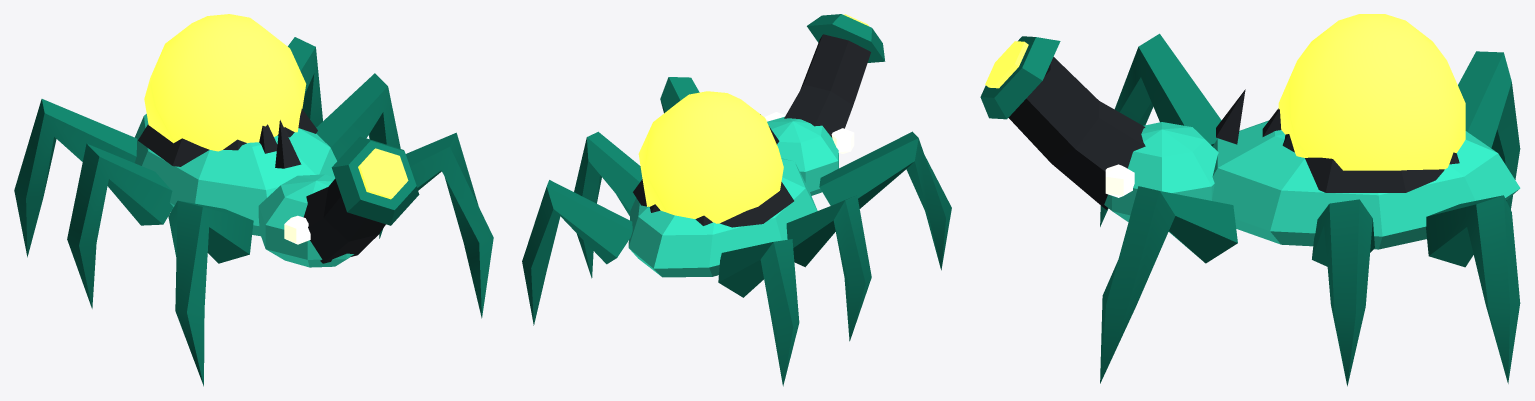
File: spitter.glb
3 renders of one model, left to right at view 1: azimuth 30°, elevation 25°; view 2: azimuth 150°, elevation 25°; view 3: azimuth 270°, elevation 25°, orthographic. The views are drawn at different scales.
Parts seen in each view (by area): view 1: body, pulse_sac, leg_R1, leg_R2, leg_R3, leg_L1, leg_L2, leg_L3; view 2: body, pulse_sac, leg_R1, leg_L3, leg_R3, leg_R2, leg_L2, leg_L1; view 3: body, pulse_sac, leg_L1, leg_L3, leg_L2, leg_R1, leg_R3.
Boxes of the visible parts, x1=… form: body: x1=134, y1=109, x2=419, y2=267; pulse_sac: x1=144, y1=14, x2=306, y2=151; leg_R1: x1=168, y1=200, x2=253, y2=386; leg_R2: x1=67, y1=143, x2=173, y2=308; leg_R3: x1=14, y1=99, x2=137, y2=257; leg_L1: x1=406, y1=132, x2=493, y2=318; leg_L2: x1=316, y1=73, x2=400, y2=238; leg_L3: x1=288, y1=37, x2=322, y2=127; body: x1=628, y1=14, x2=885, y2=277; pulse_sac: x1=638, y1=91, x2=783, y2=223; leg_R1: x1=819, y1=131, x2=951, y2=270; leg_L3: x1=522, y1=180, x2=632, y2=325; leg_R3: x1=718, y1=239, x2=799, y2=386; leg_R2: x1=786, y1=195, x2=871, y2=341; leg_L2: x1=574, y1=131, x2=642, y2=278; leg_L1: x1=660, y1=77, x2=699, y2=113; body: x1=980, y1=36, x2=1520, y2=249; pulse_sac: x1=1278, y1=14, x2=1465, y2=170; leg_L1: x1=1100, y1=186, x2=1237, y2=383; leg_L3: x1=1426, y1=195, x2=1520, y2=383; leg_L2: x1=1312, y1=199, x2=1374, y2=386; leg_R1: x1=1100, y1=33, x2=1221, y2=226; leg_R3: x1=1458, y1=51, x2=1520, y2=209.
Size of the model in its own units: 7.13 by 5.09 by 8.73.
